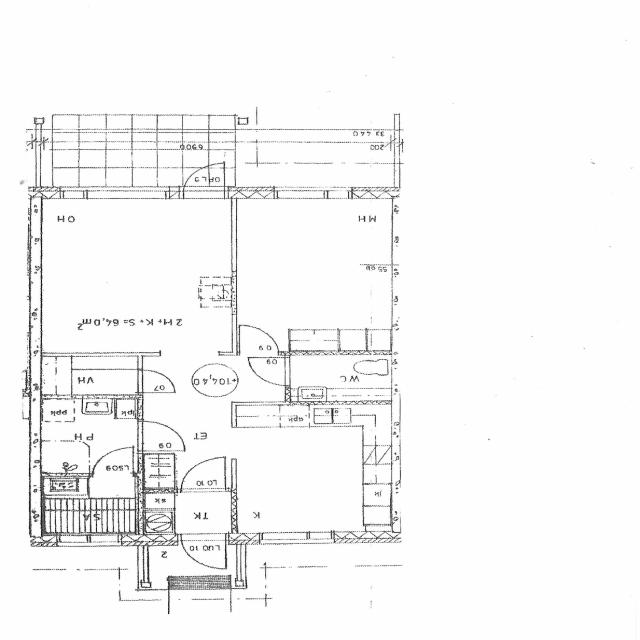door: (181, 531, 226, 573), (184, 158, 224, 198), (181, 457, 226, 492), (138, 421, 185, 451), (93, 444, 133, 477), (245, 358, 290, 386), (239, 324, 278, 355), (138, 370, 175, 392)
